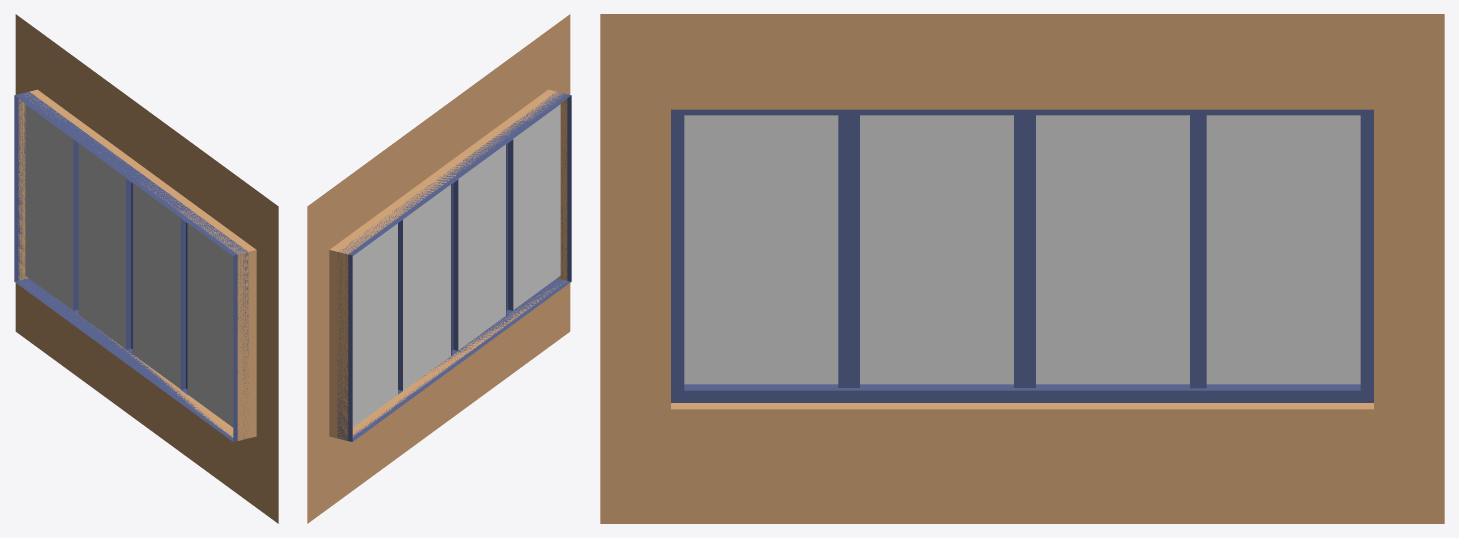
Rendered from sm_janela_02.fbx.
3 views of the same model, side by side, from view 1: azimuth 30°, elevation 25°; view 2: azimuth 150°, elevation 25°; view 3: azimuth 270°, elevation 25° (orthographic). The views are drawn at different scales.
Visible parts, largest first — view 1: sm_janela_02; view 2: sm_janela_02; view 3: sm_janela_02.
Boxes of the visible parts, x1,y1,x2,y2 form: sm_janela_02: [14, 14, 278, 523]; sm_janela_02: [307, 14, 571, 523]; sm_janela_02: [600, 14, 1444, 523].
Bounding box in the file's own units: 0.3052 × 4 × 6.
